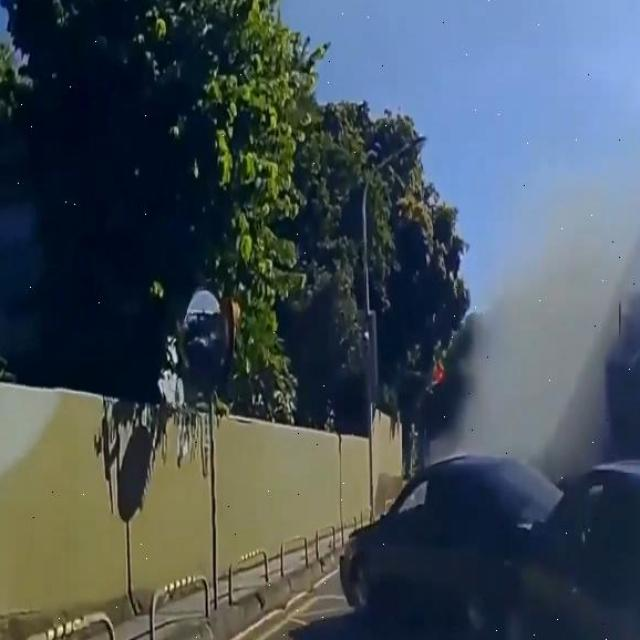accident: (333, 429, 639, 640)
